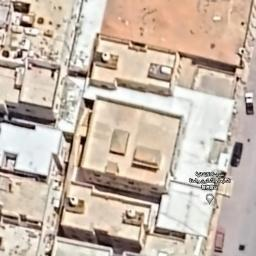truck: (230, 140, 244, 168), (245, 91, 255, 117)
unknown: (214, 227, 225, 253)
